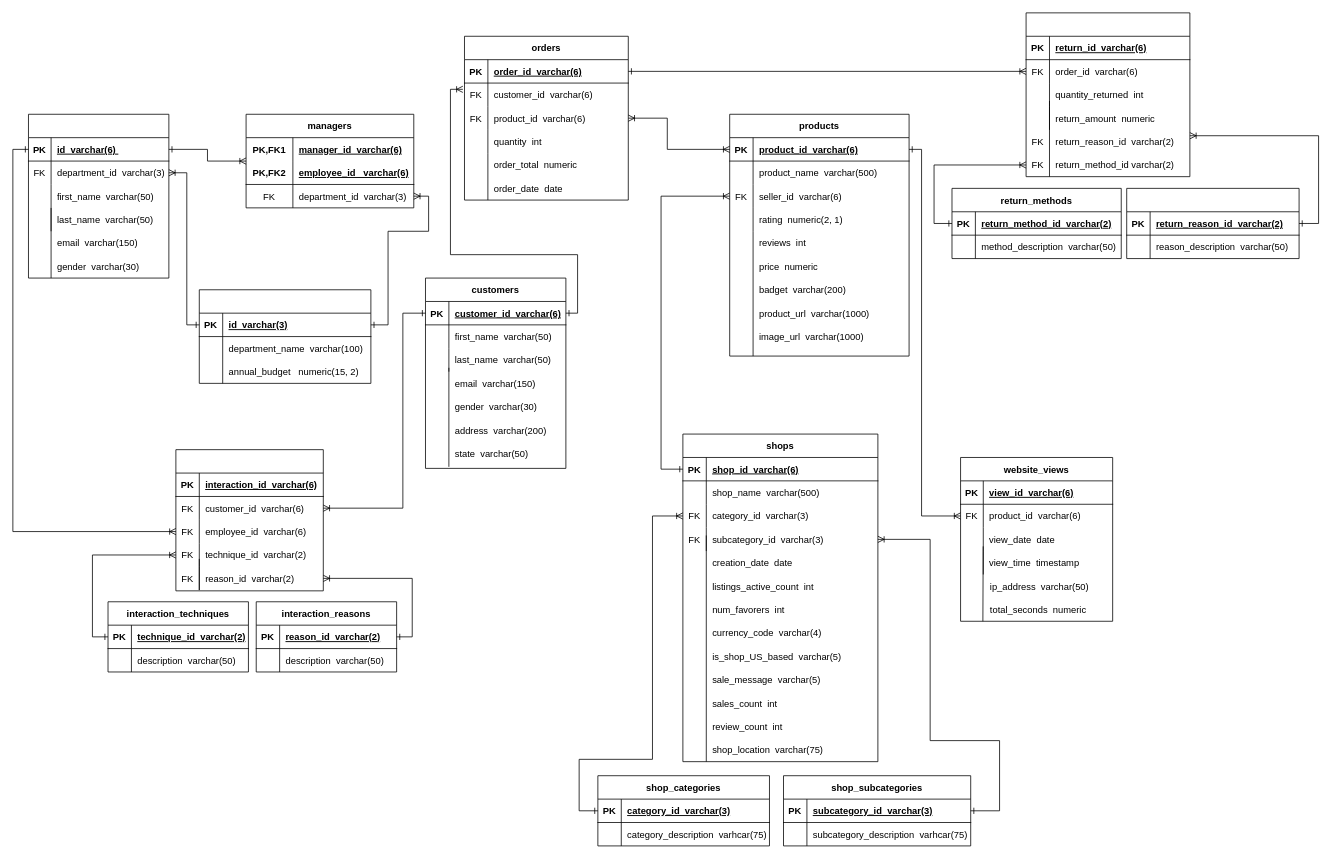
Some shapes in this 1331 by 859 pixel diagram are drawn without their labels. Each missing label, with the box of its shape:
departments: (199, 289, 371, 383)
employees: (28, 113, 169, 278)
interactions: (175, 449, 323, 591)
return_reasons: (1126, 188, 1299, 259)
returns: (1025, 12, 1190, 177)
